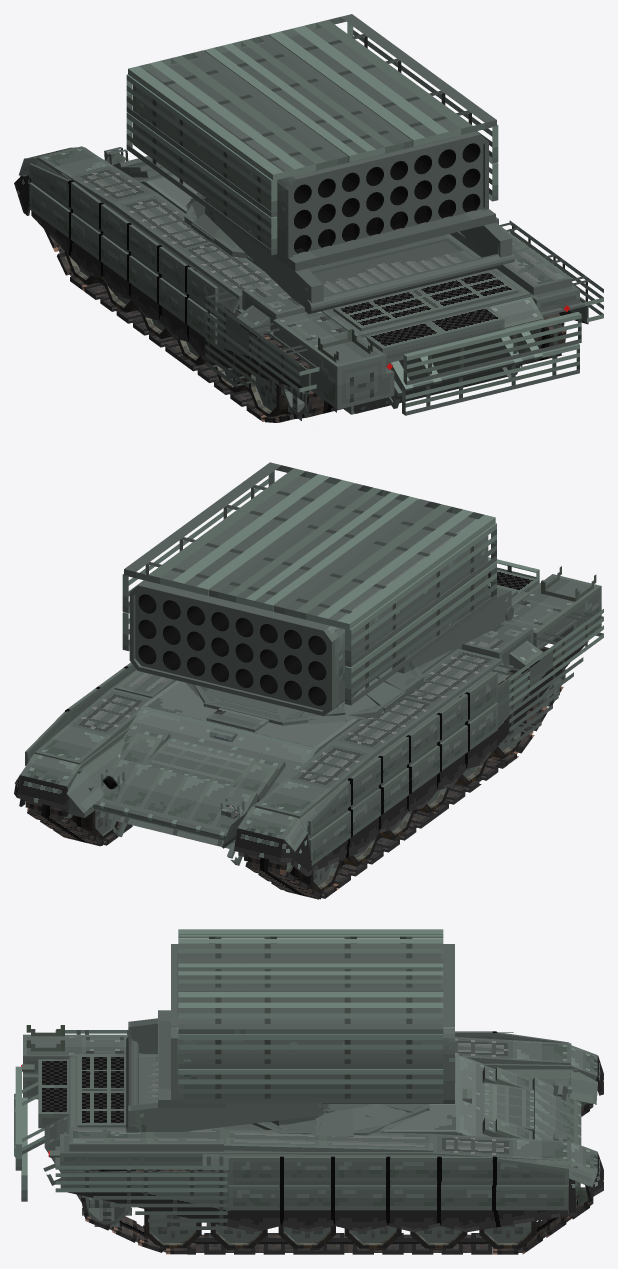
The model's file is tos.gltf.
3 renders of one model, top to bottom at view 1: azimuth 30°, elevation 25°; view 2: azimuth 150°, elevation 25°; view 3: azimuth 270°, elevation 25°, orthographic. The views are drawn at different scales.
Parts seen in each view (by area): view 1: CORPUS (×18), Klet (×6), bone3 (×7), BORT (×8), GUS, hexadecagon25 (×3), BORT2; view 2: Klet (×6), CORPUS (×13), bone3 (×5), BORT (×9), t_80bvmbord (×4), BORT2 (×4), GUS, BASNIA (×2), lik; view 3: BORT2 (×11), Klet (×6), CORPUS (×17), bone3 (×4), bone9, t_80bvmbord (×4), GUS19 (×2), BORT (×3), BASNIA (×2), WHELL15, WHELL10, WHELL11 (+4 smaller).
Part boxes in pixels (box(x1,y1,x2,y2)): CORPUS (×18): box(37, 146, 581, 415); Klet (×6): box(126, 14, 498, 255); bone3 (×7): box(133, 27, 510, 312); BORT (×8): box(29, 167, 319, 392); GUS: box(84, 283, 254, 413); hexadecagon25 (×3): box(304, 254, 514, 310); BORT2: box(499, 220, 603, 322); Klet (×6): box(122, 462, 496, 705); CORPUS (×13): box(35, 569, 601, 848); bone3 (×5): box(137, 476, 510, 715); BORT (×9): box(234, 609, 603, 871); t_80bvmbord (×4): box(92, 732, 278, 842); BORT2 (×4): box(17, 664, 136, 813); GUS: box(334, 761, 505, 888); BASNIA (×2): box(203, 674, 405, 717); lik: box(206, 708, 268, 732); BORT2 (×11): box(55, 1142, 597, 1232); Klet (×6): box(178, 929, 443, 1103); CORPUS (×17): box(14, 1025, 571, 1201); bone3 (×4): box(130, 944, 454, 1131); bone9: box(171, 1038, 454, 1099); t_80bvmbord (×4): box(484, 1067, 581, 1145); GUS19 (×2): box(187, 1233, 492, 1254); BORT (×3): box(483, 1046, 598, 1104); BASNIA (×2): box(315, 1104, 391, 1135); WHELL15: box(149, 1211, 196, 1242); WHELL10: box(484, 1222, 531, 1242); WHELL11: box(417, 1226, 461, 1242).
Bounding box in the file's own units: 4.74 × 3.55 × 8.7.
1 material, 1 textured.
